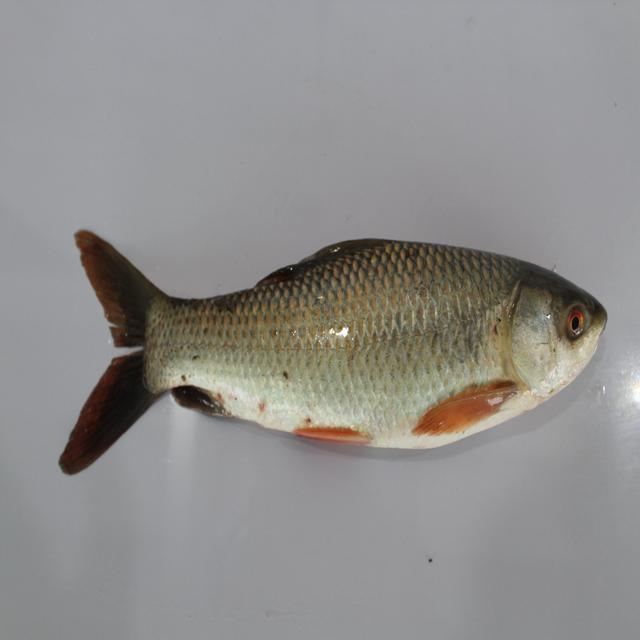Rohu: (53, 194, 605, 492)
